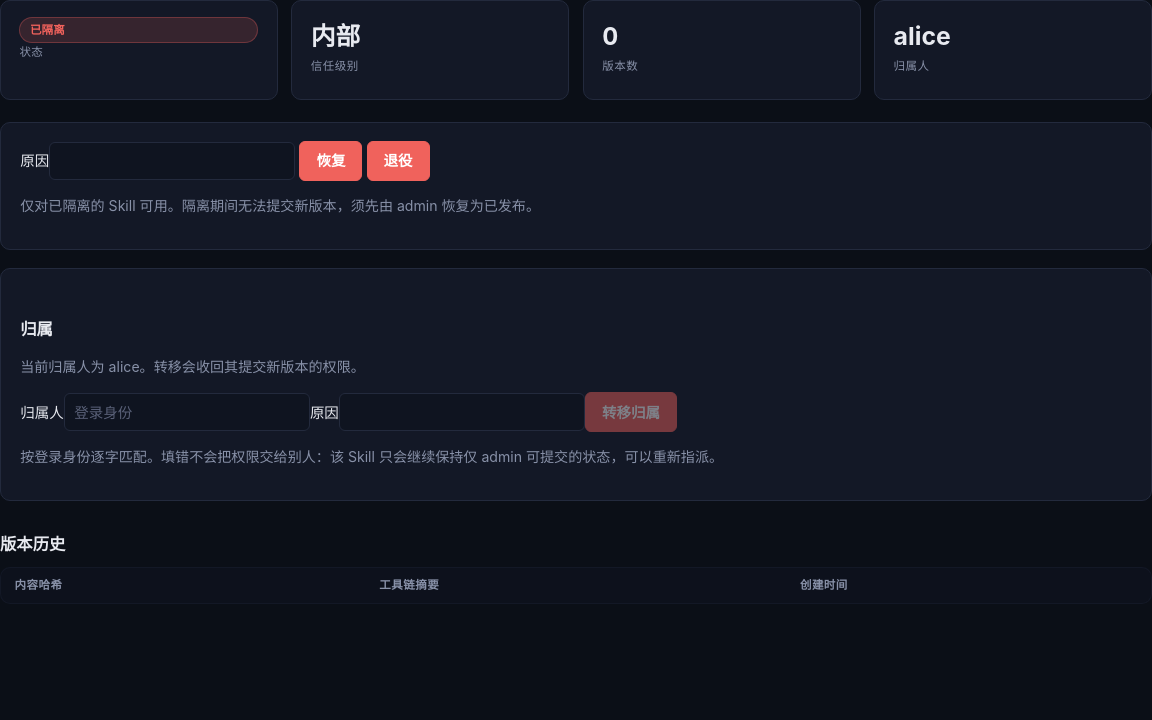
Test: Inventory admin action gating (db0983c restore wiring) › opens the restore confirmation with the restore-specific title
The image size is (1152, 720).
Click the button "恢复".
click(331, 161)  # box [300,141,362,181]
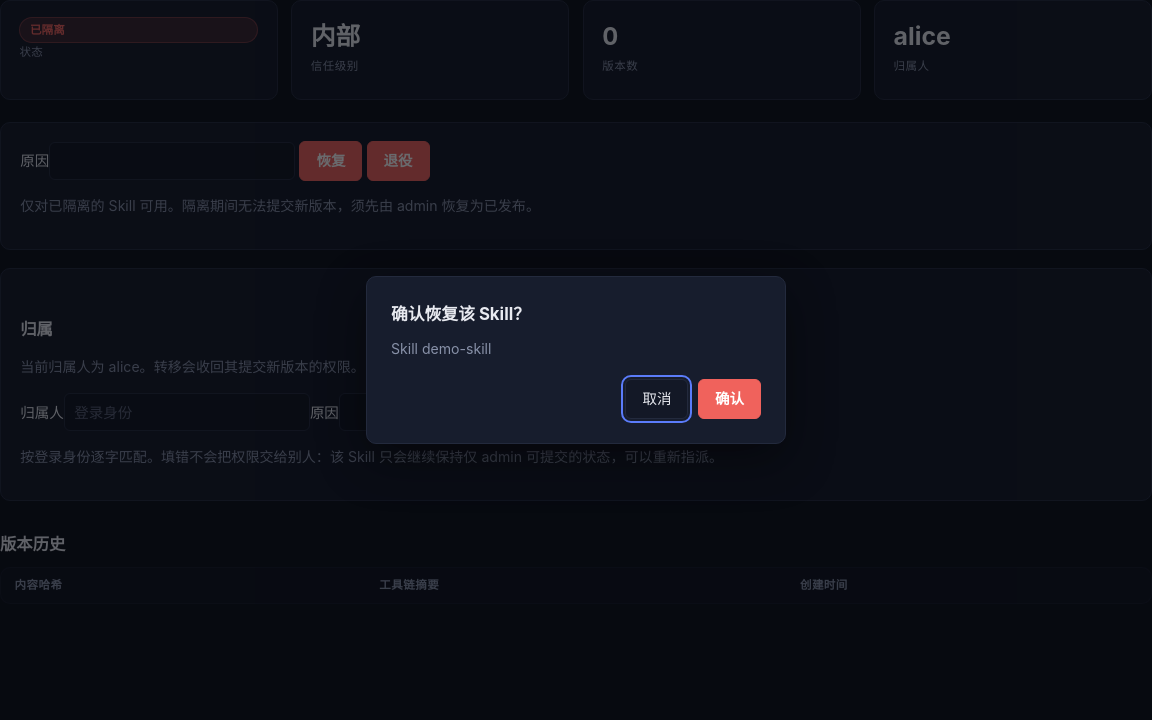
Result: the heading "确认恢复该 Skill？" is shown at [391,304,530,324]
